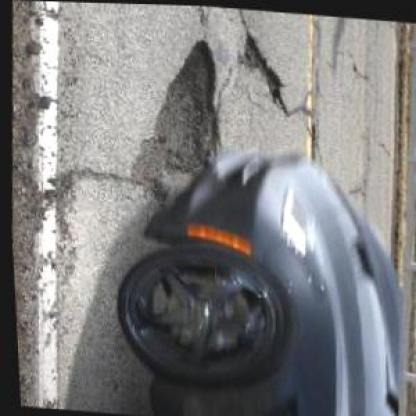pothole: (121, 34, 228, 210), (236, 32, 288, 105)
